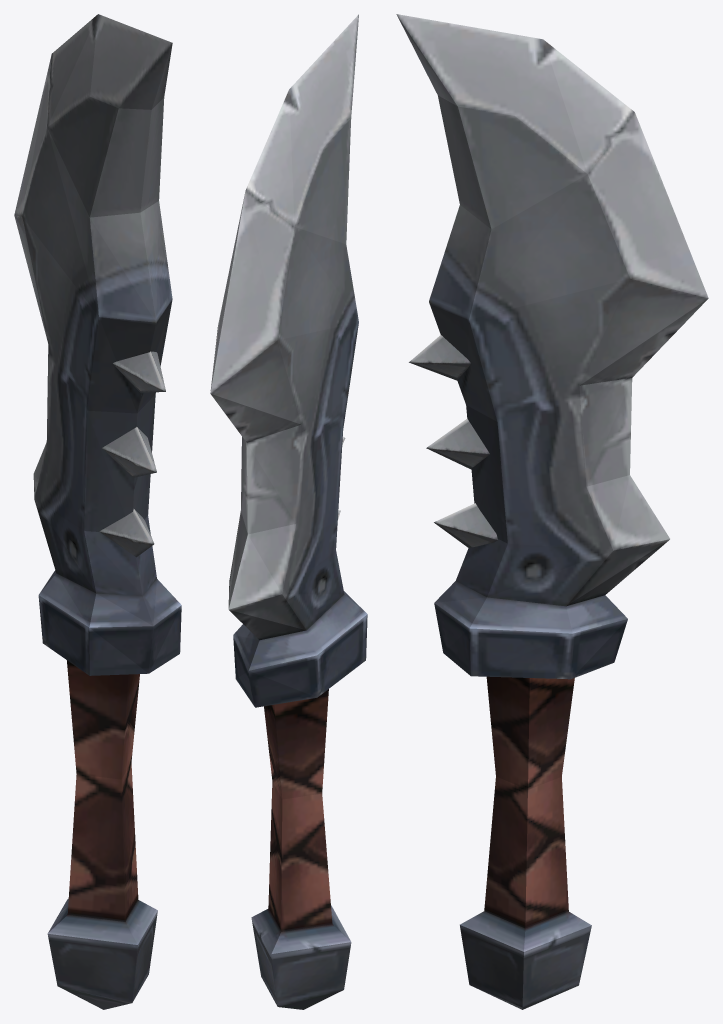
File: sword03.fbx
The picture shows the model from 3 angles, left to right: view 1: azimuth 30°, elevation 25°; view 2: azimuth 150°, elevation 25°; view 3: azimuth 270°, elevation 25°; orthographic projection. The views are drawn at different scales.
Parts seen in each view (by area): view 1: obj0.040; view 2: obj0.040; view 3: obj0.040.
Part boxes in pixels (x1=…): obj0.040: x1=14, y1=14, x2=181, y2=1009; obj0.040: x1=210, y1=14, x2=367, y2=1009; obj0.040: x1=396, y1=14, x2=708, y2=1009.
Bounding box in the file's own units: 0.2024 × 1.81 × 0.5121.
